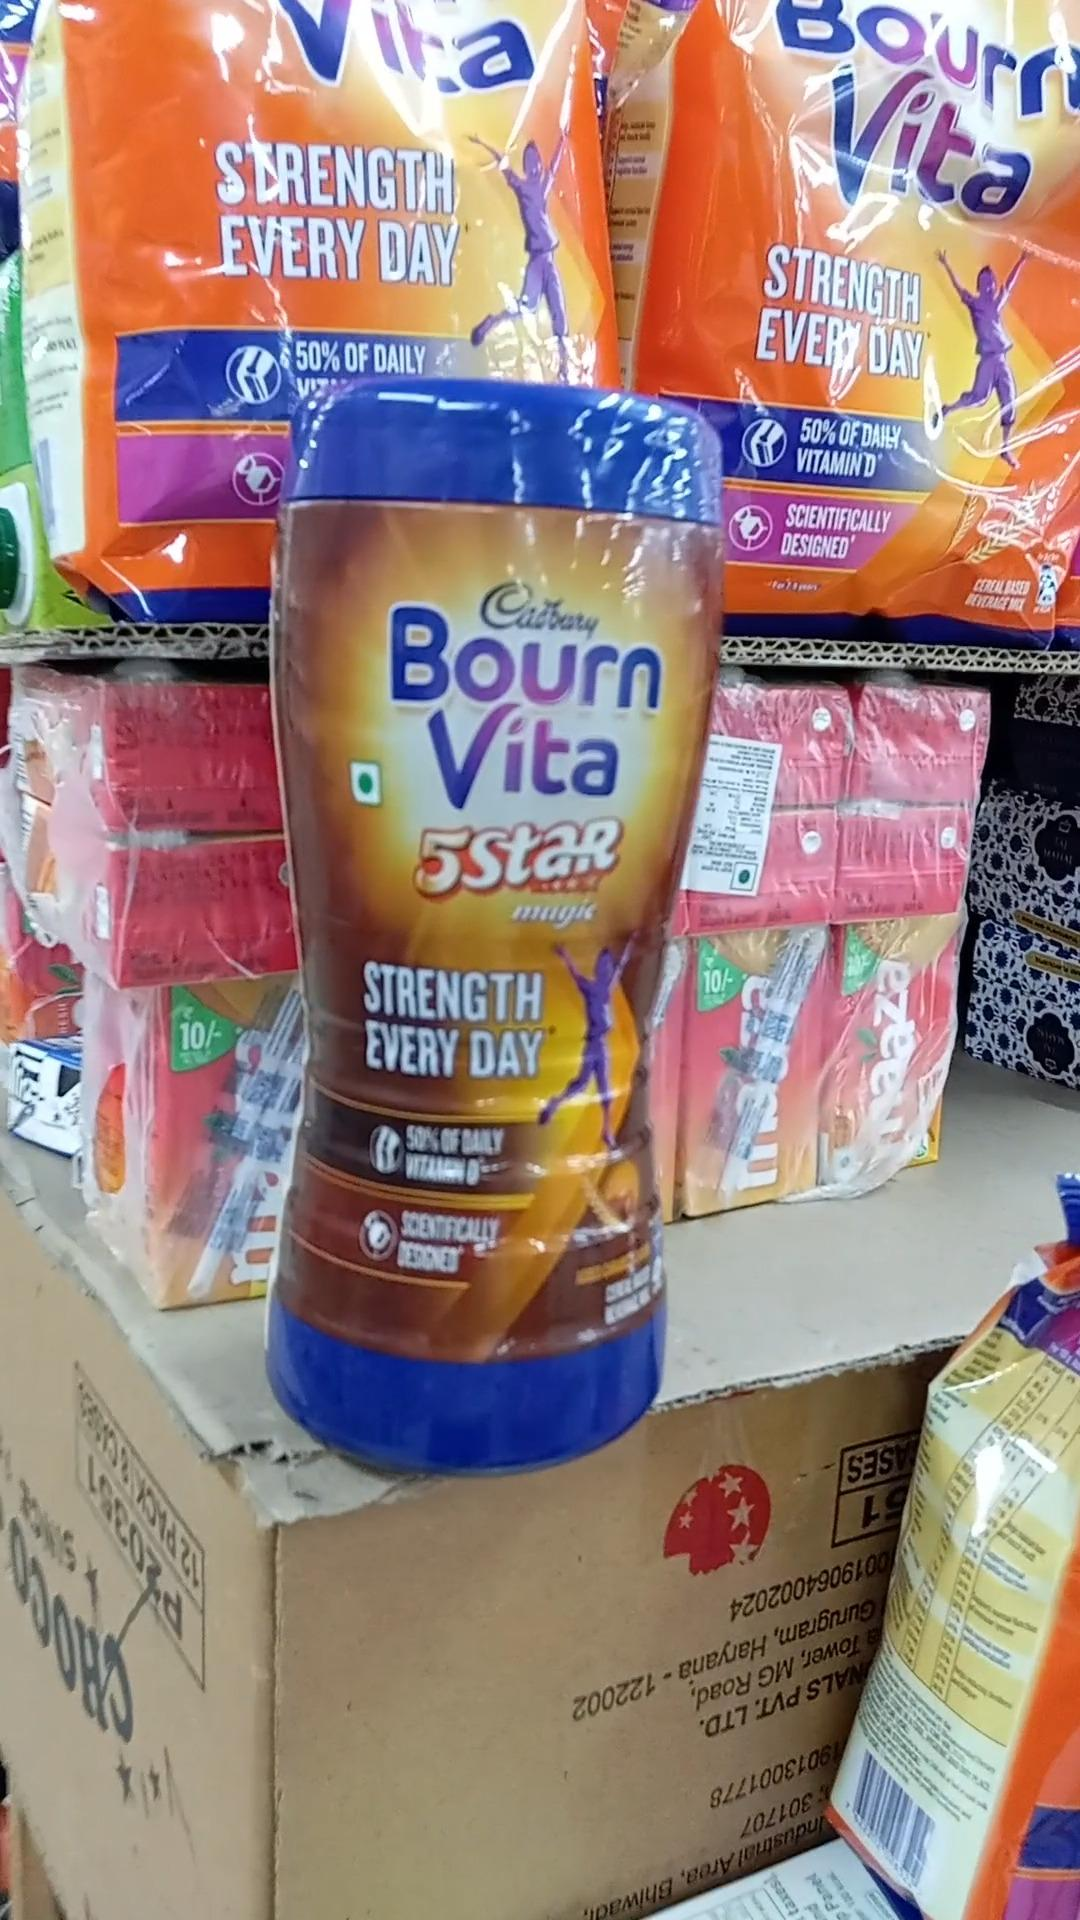BOURN_VITA_FIVE_STAR_MAGIC_500_G_JAR: (276, 369, 716, 1476)
